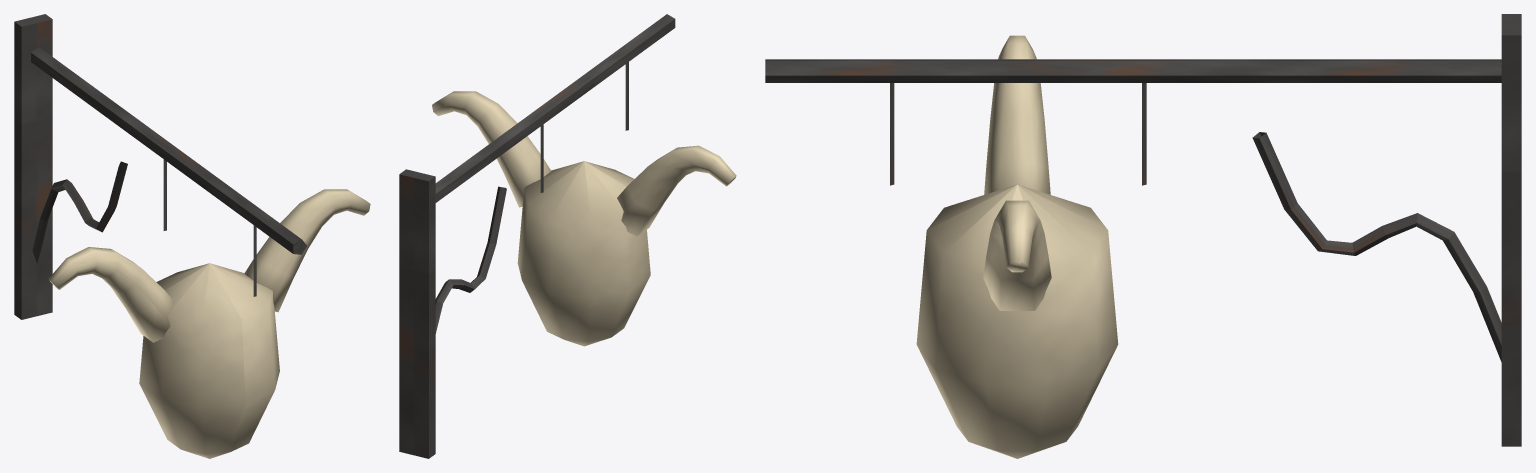
Rendered from Sign_Tavern_Skull_1.gltf.
3 renders of one model, left to right at view 1: azimuth 30°, elevation 25°; view 2: azimuth 150°, elevation 25°; view 3: azimuth 270°, elevation 25°, orthographic. The views are drawn at different scales.
Parts seen in each view (by area): view 1: Sign_Tavern_Skull_1; view 2: Sign_Tavern_Skull_1; view 3: Sign_Tavern_Skull_1.
Part boxes in pixels (x1,y1,x2,y2): Sign_Tavern_Skull_1: (14, 14, 370, 458); Sign_Tavern_Skull_1: (399, 14, 736, 458); Sign_Tavern_Skull_1: (765, 14, 1521, 458).
Bounding box in the file's own units: 1.02 × 0.95 × 1.5.
2 materials, 2 textured.
